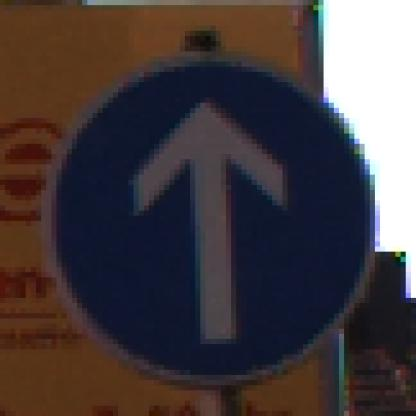AheadOnly: (42, 42, 381, 376)
